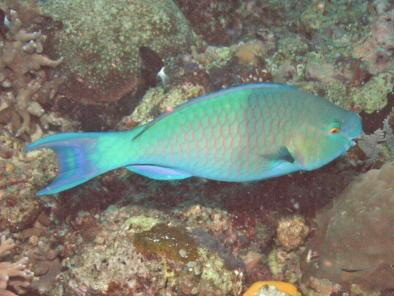Pomacentridae -Damselfishes-: (132, 39, 178, 93)
Scaridae -Parrotfishes-: (25, 80, 367, 200)
